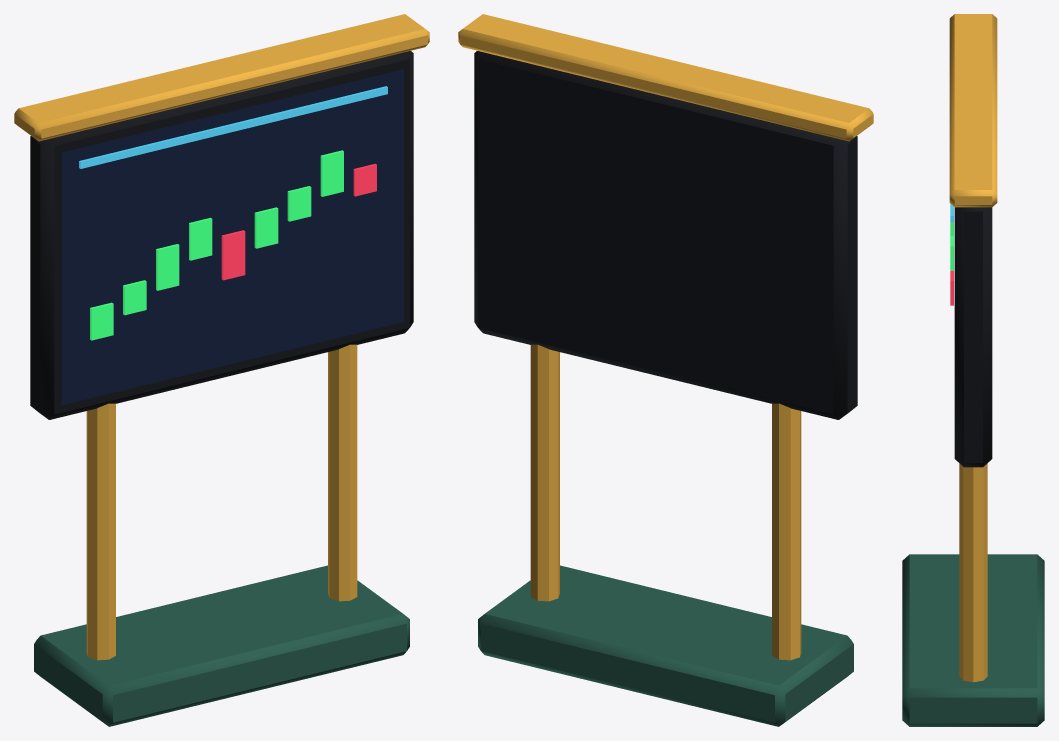
The model's file is ex_board.glb.
The picture shows the model from 3 angles, left to right: view 1: azimuth 30°, elevation 25°; view 2: azimuth 150°, elevation 25°; view 3: azimuth 270°, elevation 25°; orthographic projection. The views are drawn at different scales.
Parts seen in each view (by area): view 1: fx_glow_board, ex_board; view 2: ex_board; view 3: ex_board, fx_glow_board.
Boxes of the visible parts, <box> form: fx_glow_board: <box>61,69,403,405</box>; ex_board: <box>14,14,429,726</box>; ex_board: <box>458,14,873,726</box>; ex_board: <box>902,14,1044,726</box>; fx_glow_board: <box>950,204,953,305</box>.
Size of the model in its own units: 1.8 by 2.6 by 0.6.
Materials: 2 (2 with a texture image).
